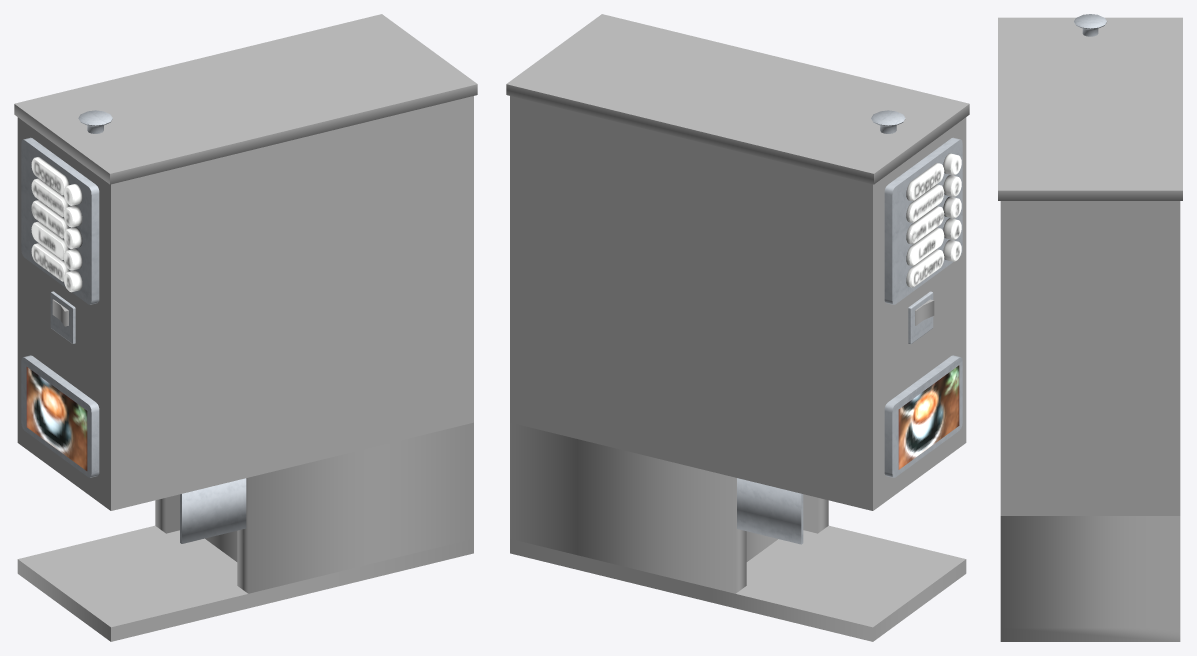
File: SM_CoffieMachineSmall.fbx
The picture shows the model from 3 angles, left to right: view 1: azimuth 30°, elevation 25°; view 2: azimuth 150°, elevation 25°; view 3: azimuth 270°, elevation 25°; orthographic projection. The views are drawn at different scales.
Parts seen in each view (by area): view 1: SM_CoffieMachineSmall_LOD0; view 2: SM_CoffieMachineSmall_LOD0; view 3: SM_CoffieMachineSmall_LOD0.
Part boxes in pixels (x1,y1,x2,y2): SM_CoffieMachineSmall_LOD0: [14, 14, 477, 641]; SM_CoffieMachineSmall_LOD0: [506, 14, 969, 641]; SM_CoffieMachineSmall_LOD0: [998, 14, 1182, 641].
Size of the model in its own units: 62.6 by 27.18 by 75.63.
